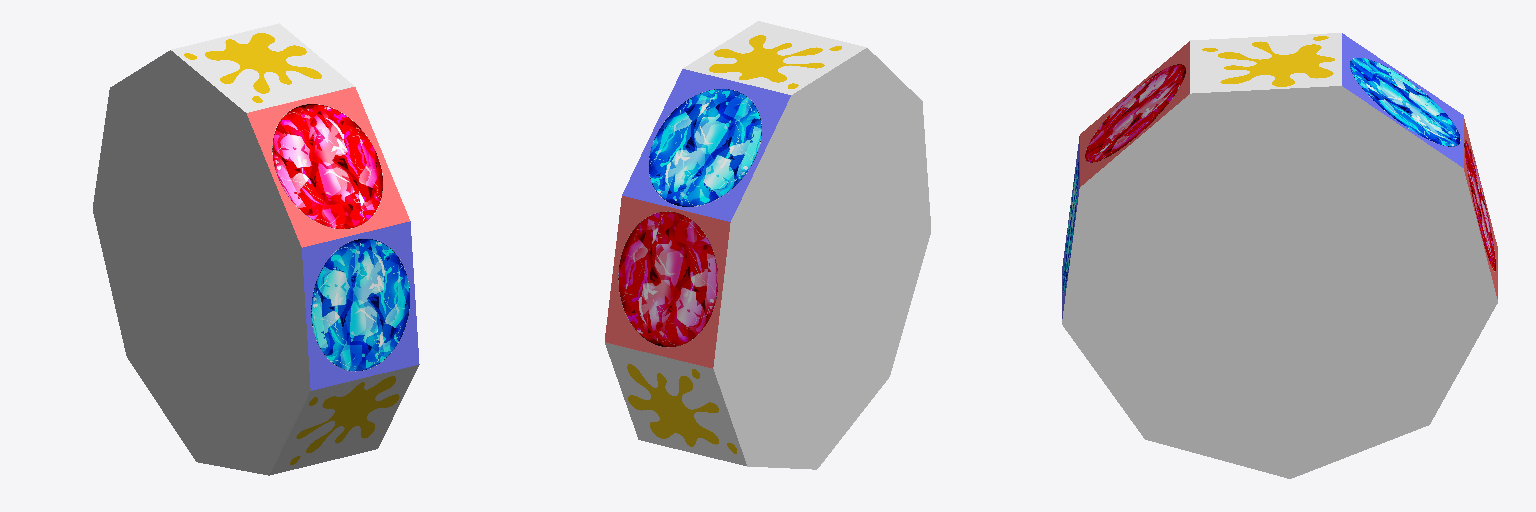
3 renders of one model, left to right at view 1: azimuth 30°, elevation 25°; view 2: azimuth 150°, elevation 25°; view 3: azimuth 270°, elevation 25°, orthographic.
Parts seen in each view (by area): view 1: model_slot_roll:pCylinder1 group1; view 2: model_slot_roll:pCylinder1 group1; view 3: model_slot_roll:pCylinder1 group1.
Part boxes in pixels (left/top/right/bottom): model_slot_roll:pCylinder1 group1: left=93, top=23, right=419, bottom=475; model_slot_roll:pCylinder1 group1: left=605, top=21, right=930, bottom=469; model_slot_roll:pCylinder1 group1: left=1062, top=33, right=1497, bottom=478.
Size of the model in its own units: 0.3778 by 1.3 by 1.31.
4 materials, 3 textured.